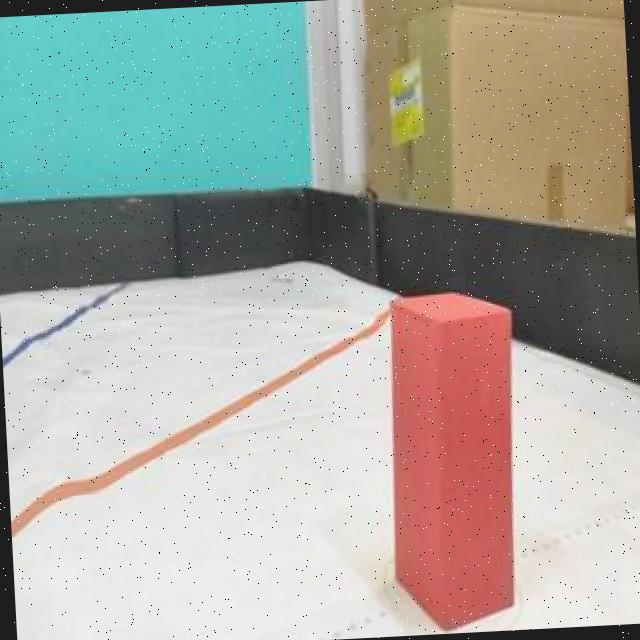redbox: (377, 288, 527, 636)
